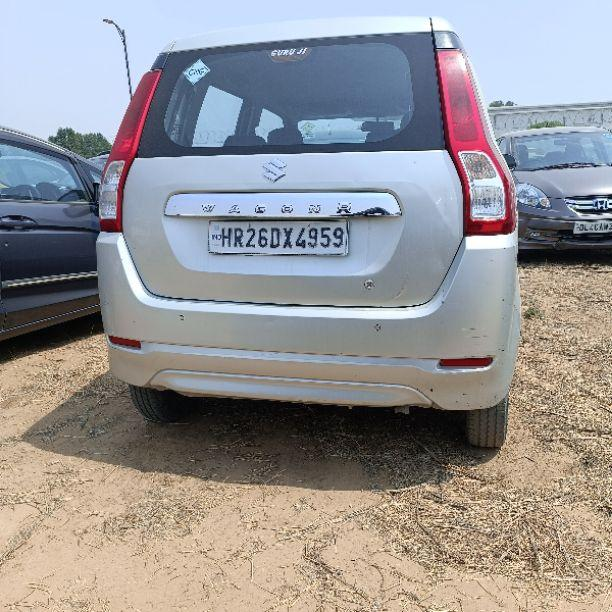license_plate: (206, 218, 350, 256), (572, 218, 611, 235)
